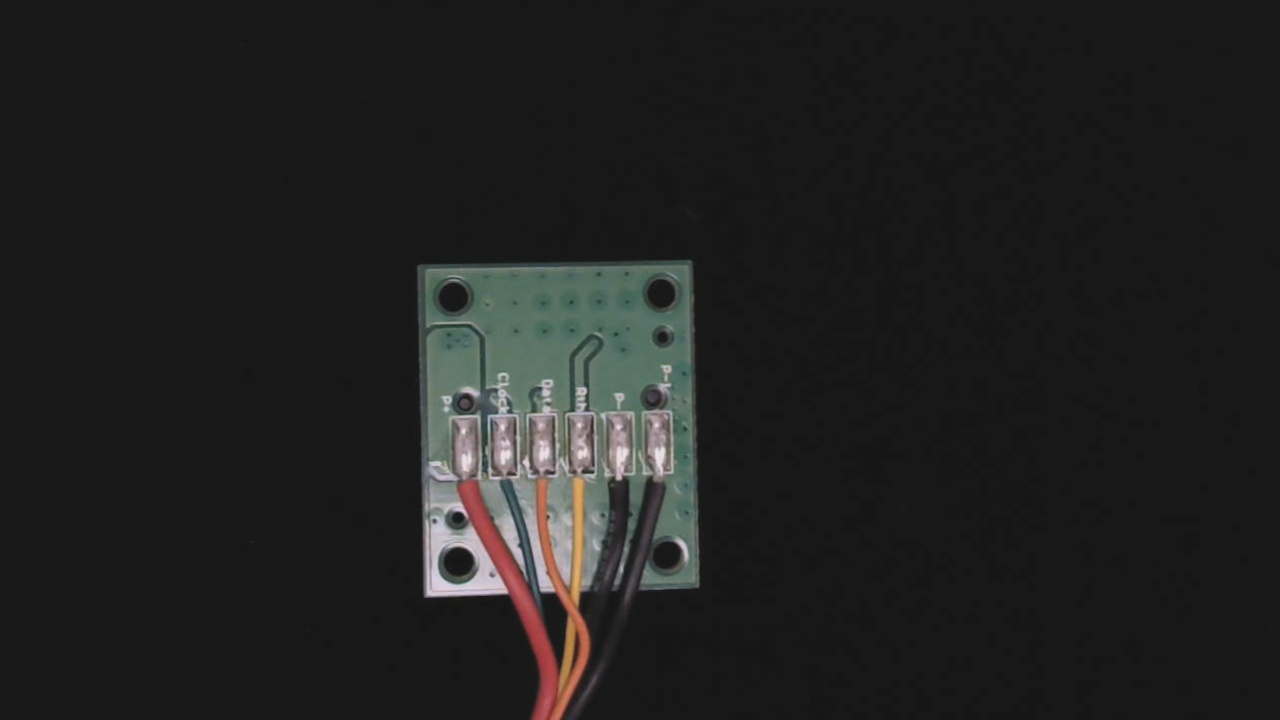Black: (603, 458, 637, 532)
Black1: (645, 456, 679, 524)
Green: (490, 457, 520, 517)
Orange: (528, 456, 561, 524)
Red: (451, 460, 486, 531)
Yellow: (564, 459, 599, 534)
